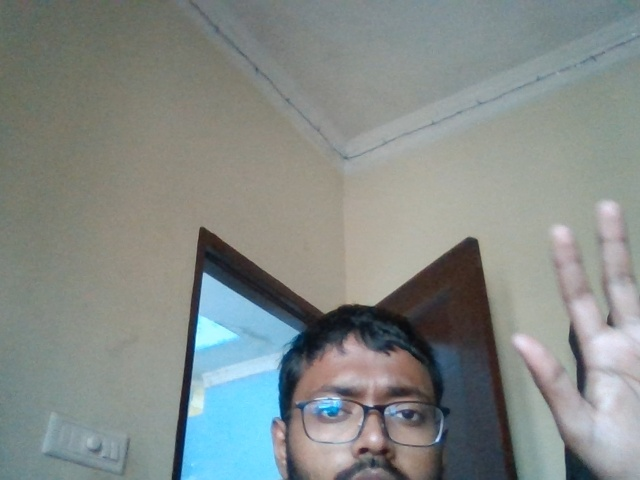Hello: (476, 178, 640, 470)
